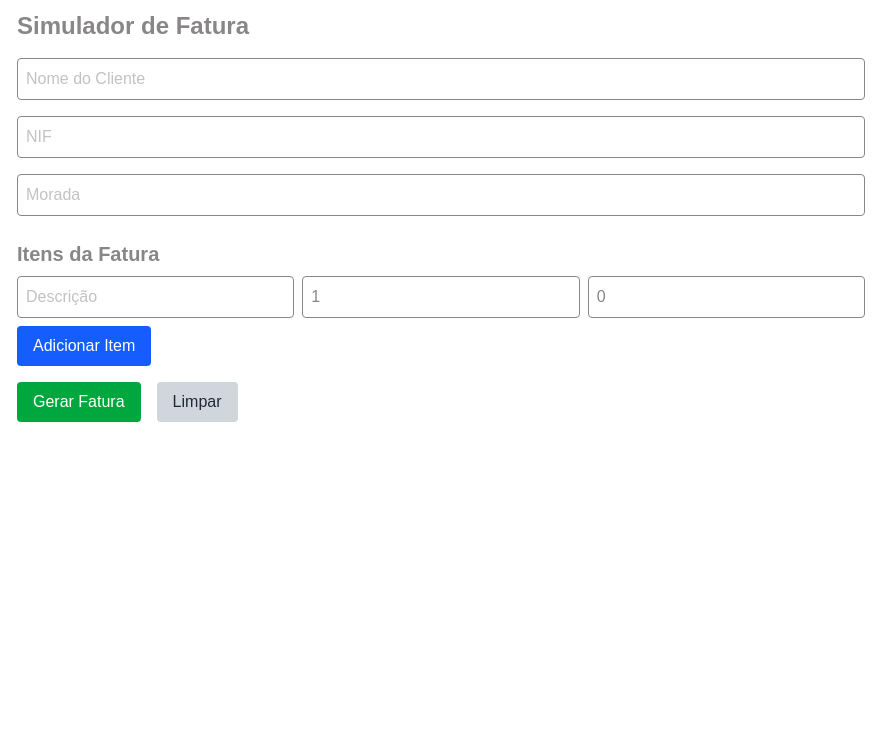
can fill client and item fields and generate invoice
In the field with placeholder "Nome do Cliente": (441,79) [17, 58, 865, 100], type "Pedro"
In the field with placeholder "NIF": (441,137) [17, 116, 865, 158], type "123456789"
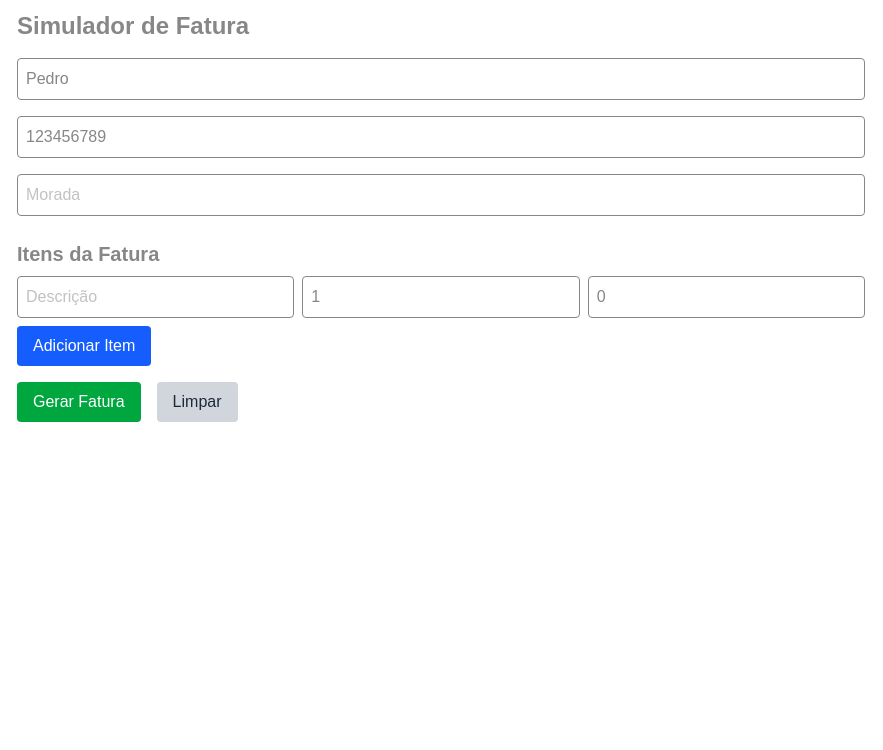
In the field with placeholder "Morada": (441,195) [17, 174, 865, 216], type "Rua 1"
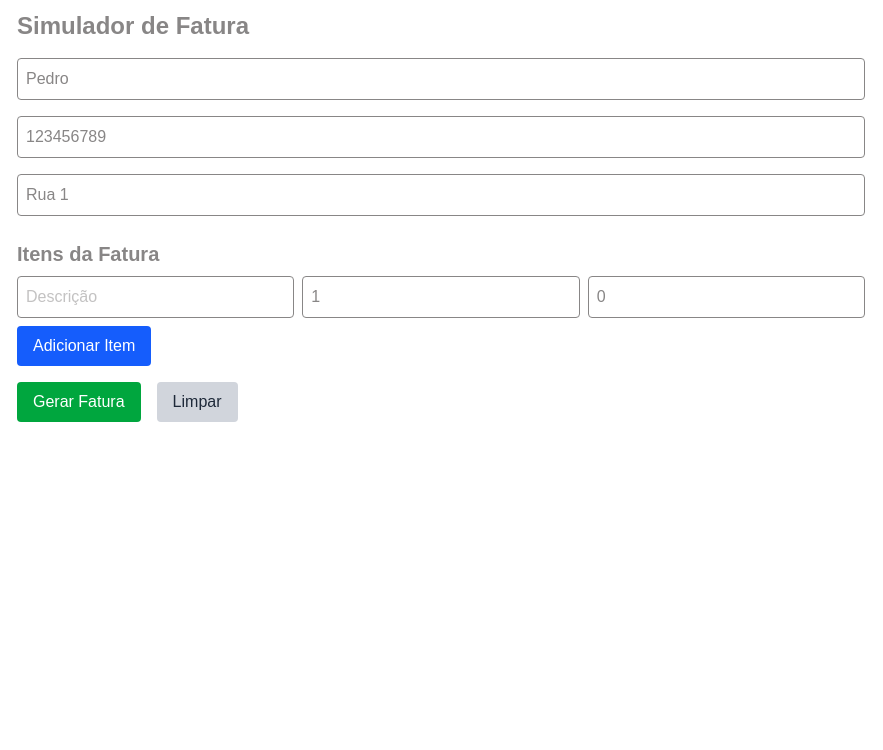
In the field with placeholder "Descrição": (156,297) [17, 276, 294, 318], type "Serviço A"
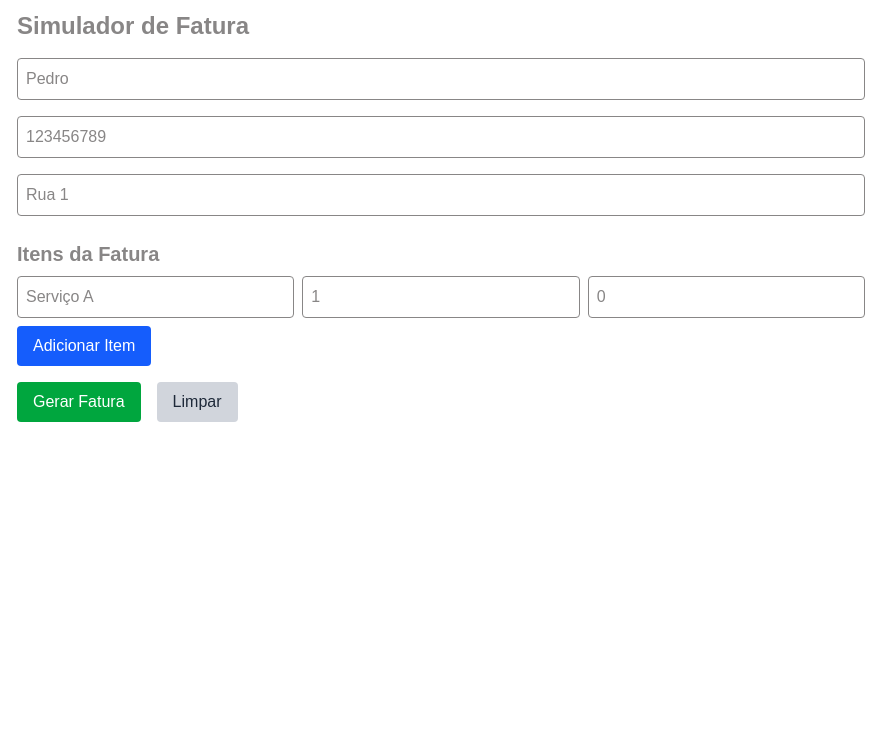
Replace the text in the 1st number field with placeholder "Quantidade" with "2": (441,297) [302, 276, 580, 318]
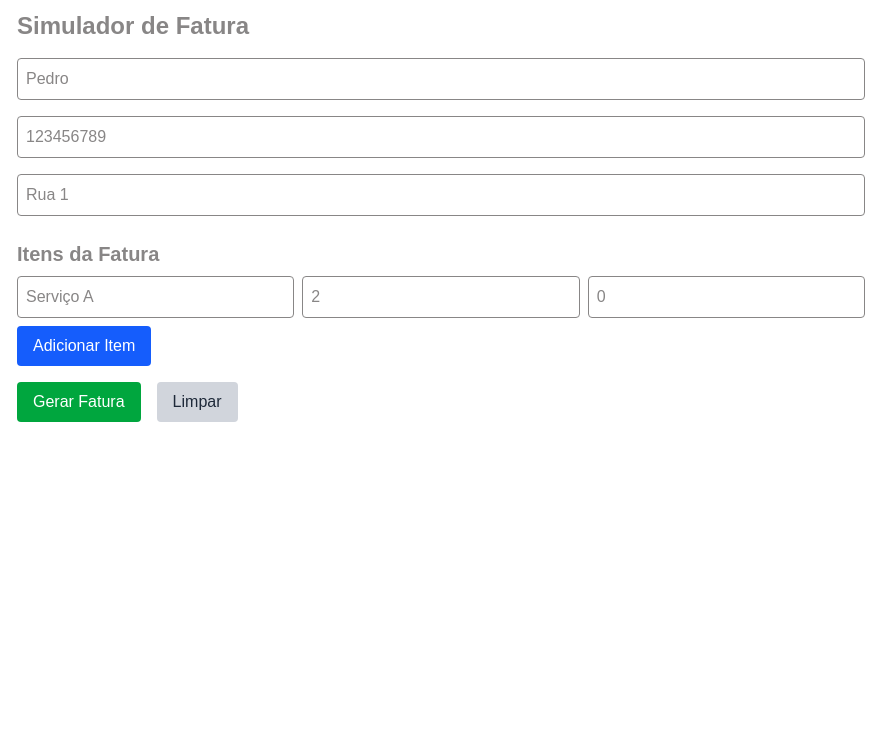
Replace the text in the 2nd number field with placeholder "Preço" with "10": (726,297) [588, 276, 865, 318]
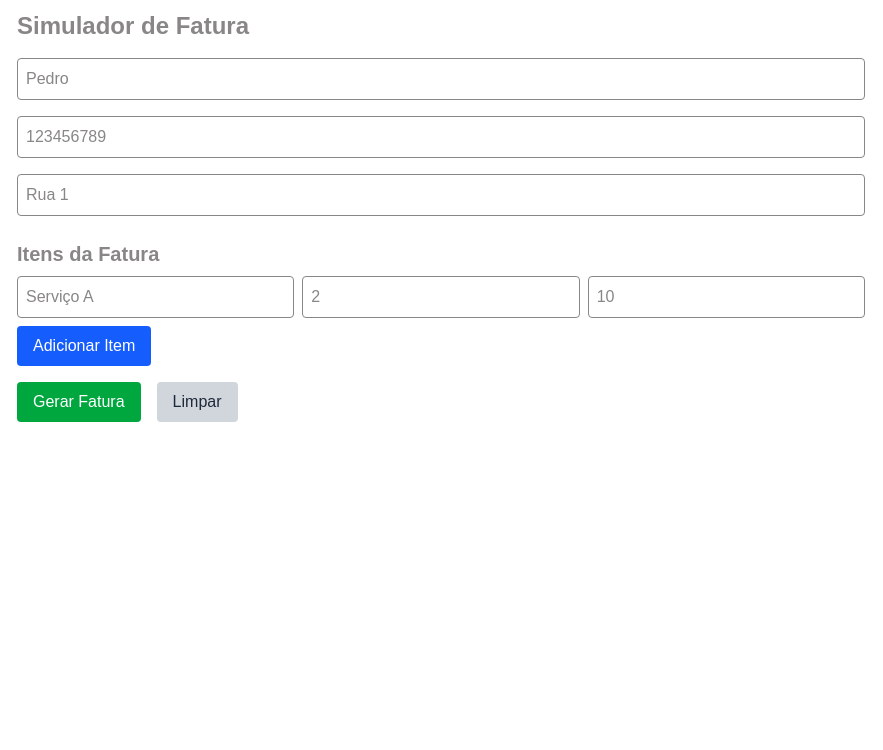
Click the button "Gerar Fatura": (79,402) [17, 382, 141, 422]
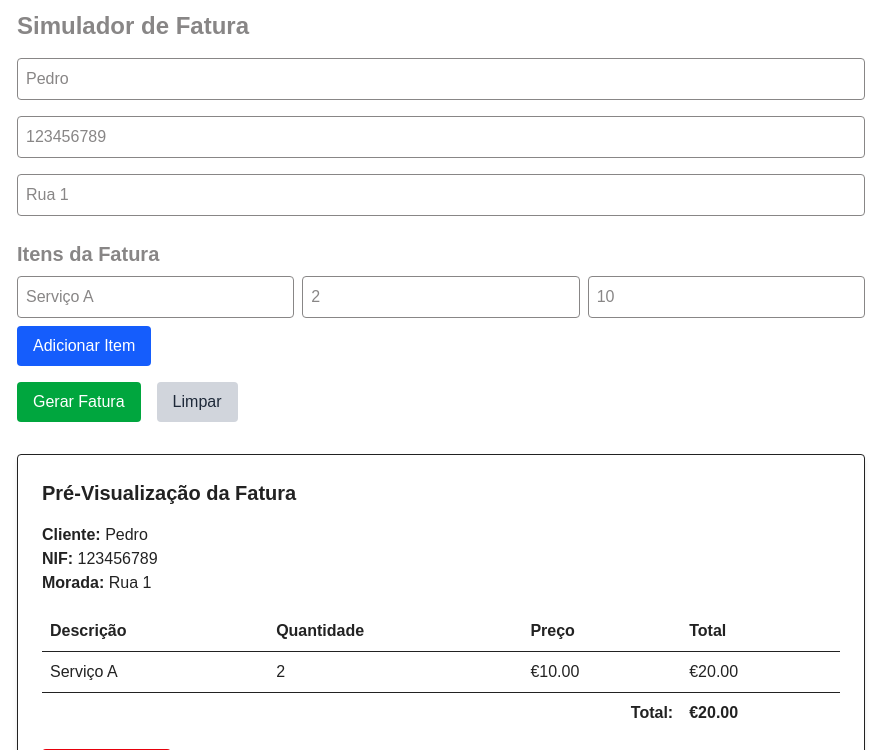
Expected: the heading "Pré-Visualização da Fatura" is shown, [42, 482, 296, 504]
Expected: the text "Cliente: Pedro" is shown, [42, 526, 148, 543]
Expected: the text "NIF: 123456789" is shown, [42, 550, 158, 567]
